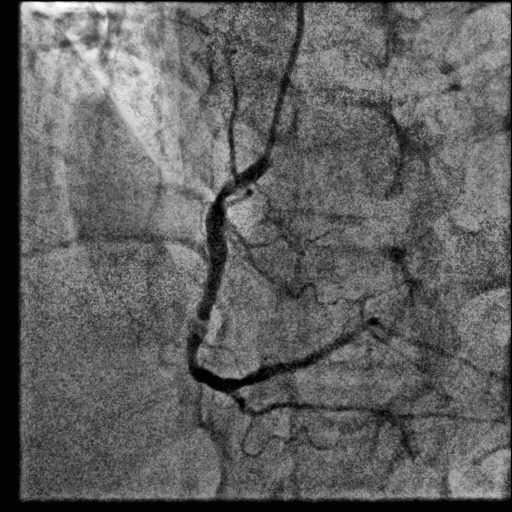pborca: (231, 317, 507, 389)
pda: (224, 390, 484, 424)
rca: (187, 157, 270, 393)
